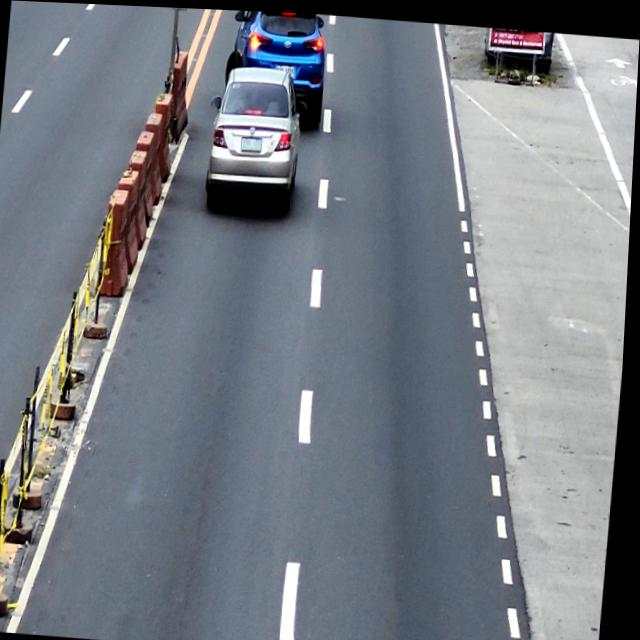Car: (204, 60, 309, 211), (221, 8, 330, 125)
License-Plate: (241, 135, 264, 149)
